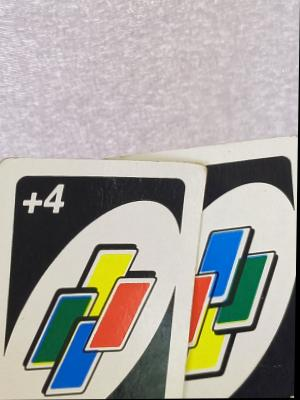wild-4: (0, 158, 209, 399), (169, 201, 297, 400)
